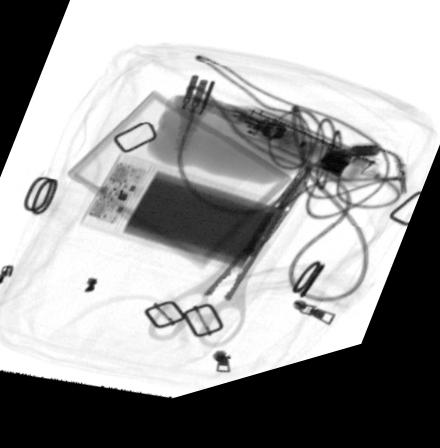Powerbank: (78, 159, 288, 289)
Scissors: (147, 178, 314, 359)
